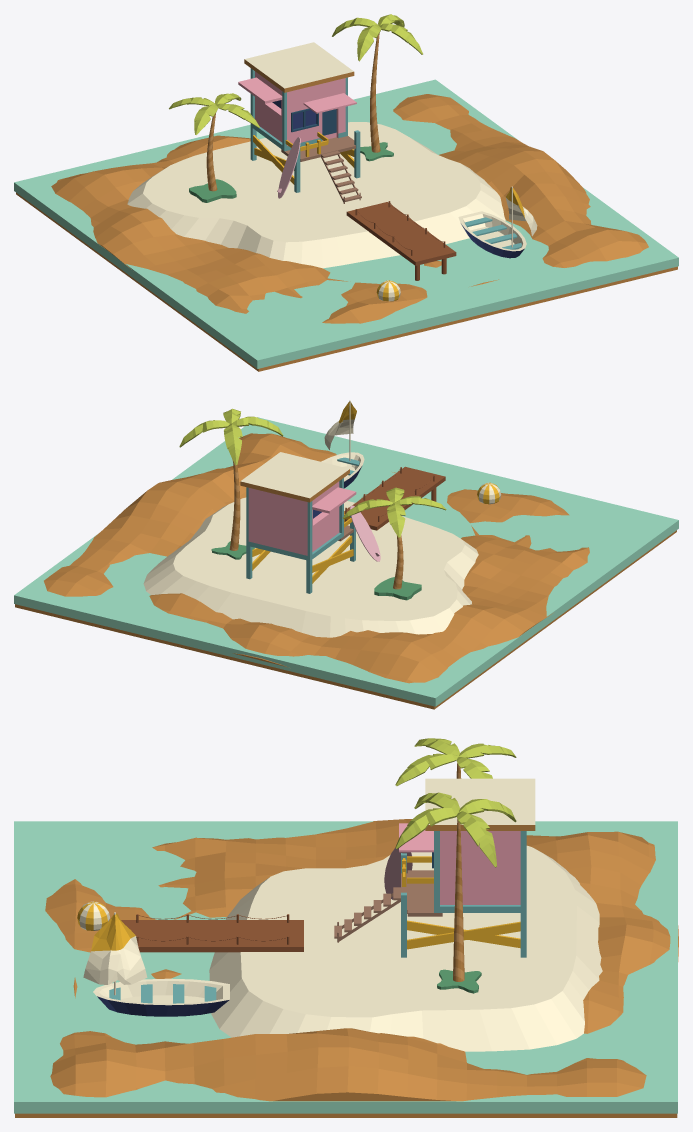
Rendered from D4_SURFING_ISLAND.fbx.
3 views of the same model, one above another, from view 1: azimuth 30°, elevation 25°; view 2: azimuth 150°, elevation 25°; view 3: azimuth 270°, elevation 25° (orthographic). The views are drawn at different scales.
Parts seen in each view (by area): view 1: Cube.020, Cube.039, GP_Layer, Cube.030, Cube.038, Cylinder.012, Cylinder.006, Cylinder.010, Cube.034, Cube.032, Cylinder.009, Cube.031 (+5 smaller); view 2: Cube.039, Cube.020, GP_Layer, Cube.030, Cylinder.012, Cube.038, Cylinder.010, Cube.036, Cylinder.008, Cylinder.006, Cylinder.009, Plane.002 (+2 smaller); view 3: Cube.020, Cube.039, GP_Layer, Cube.030, Cube.038, Cylinder.012, Cylinder.006, Plane.002, Cylinder.010, Cube.036, Cube.032, Cube.037 (+5 smaller).
Boxes of the visible parts, x1,y1,x2,y2 form: Cube.020: (14,79,678,368); Cube.039: (16,94,677,371); GP_Layer: (127,122,505,268); Cube.030: (244,42,354,151); Cube.038: (346,202,456,265); Cylinder.012: (332,14,422,152); Cylinder.006: (458,211,526,258); Cylinder.010: (169,93,259,191); Cube.034: (250,127,360,192); Cube.032: (281,136,355,161); Cylinder.009: (189,179,236,202); Cube.031: (303,93,356,113); Cube.039: (15,433,676,709); Cube.020: (14,417,678,706); GP_Layer: (143,497,478,637); Cube.030: (240,452,349,560); Cylinder.012: (179,408,283,550); Cube.038: (344,466,445,530); Cylinder.010: (342,487,446,589); Cube.036: (252,535,353,583); Cylinder.008: (349,505,380,561); Cylinder.006: (321,452,364,488); Cylinder.009: (374,577,421,600); Plane.002: (324,402,356,449); Cube.020: (14,821,677,1113); Cube.039: (15,819,678,1117); GP_Layer: (209,845,602,1051); Cube.030: (425,778,535,912); Cube.038: (121,920,303,952); Cylinder.012: (395,792,516,981); Cylinder.006: (93,978,229,1016); Plane.002: (83,913,147,984); Cylinder.010: (395,738,516,785); Cube.036: (407,920,520,949); Cube.032: (401,870,442,916); Cube.037: (334,887,400,942).
Size of the model in its own units: 4006 by 1485 by 4006.
4 materials, 4 textured.
